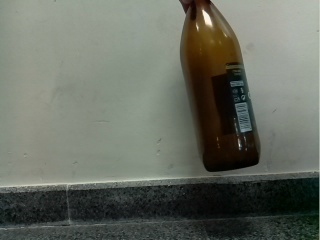pote cristal: (179, 1, 261, 172)
